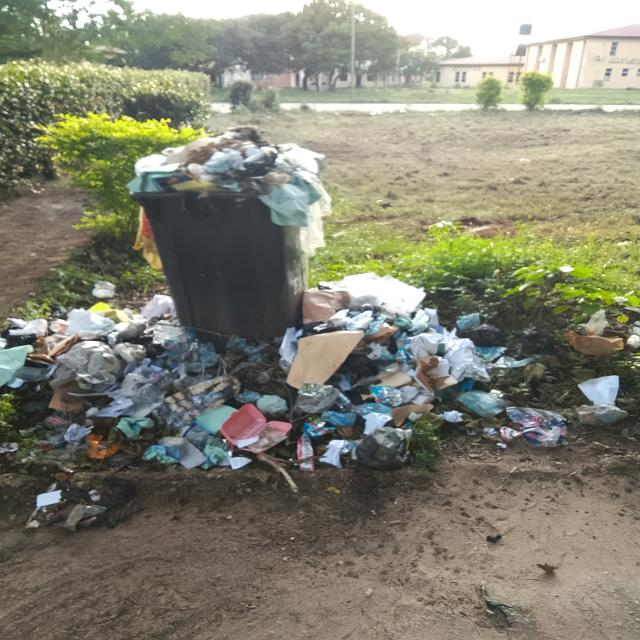overflowing: (120, 130, 339, 205)
